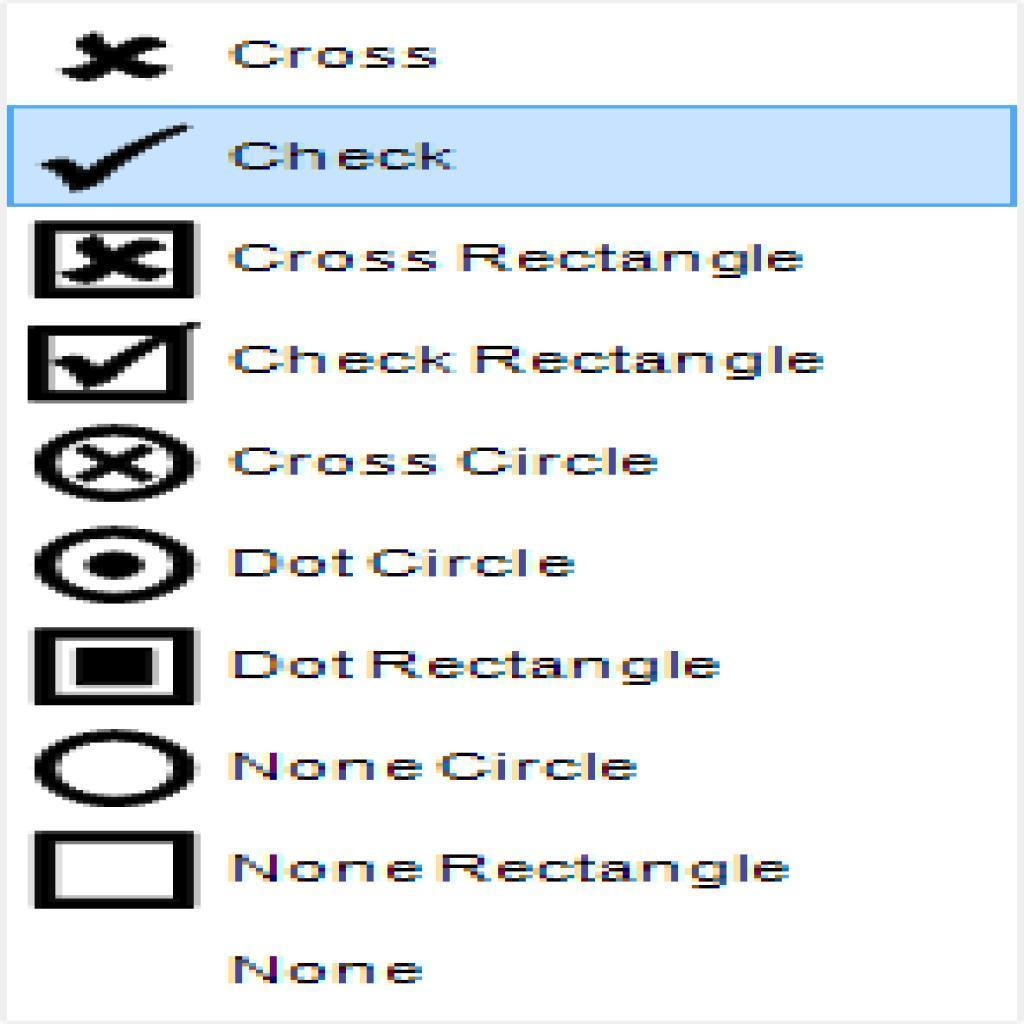checkbox: (36, 831, 206, 911), (35, 627, 203, 705), (35, 220, 200, 299), (29, 326, 196, 404)
radio: (28, 518, 202, 604), (24, 728, 214, 806), (29, 424, 201, 503)
